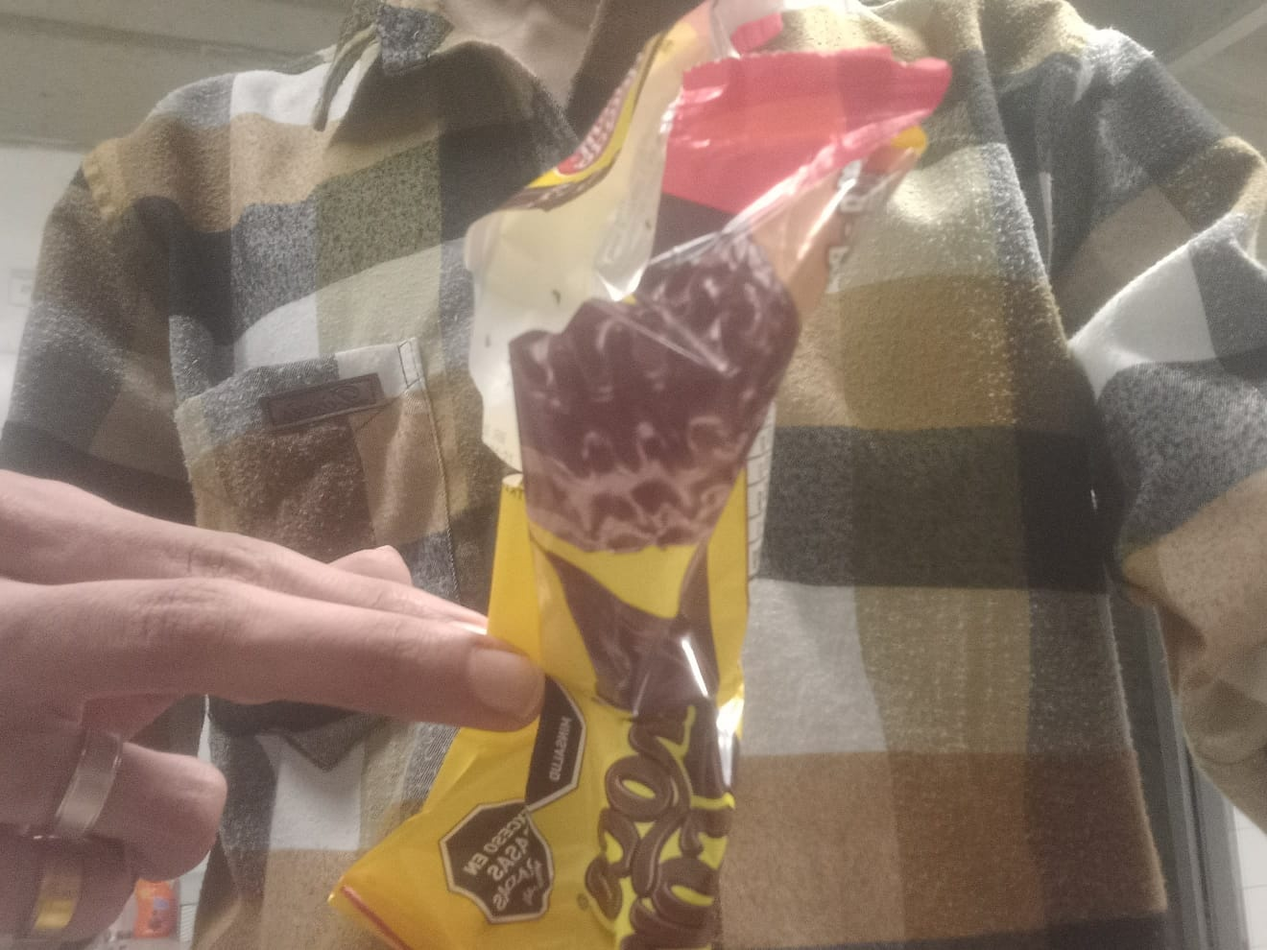Ordinario: (327, 0, 952, 947)
